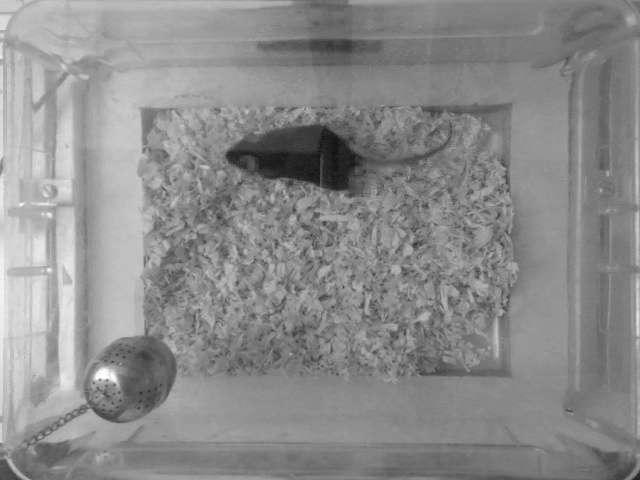mice: (217, 115, 470, 192)
